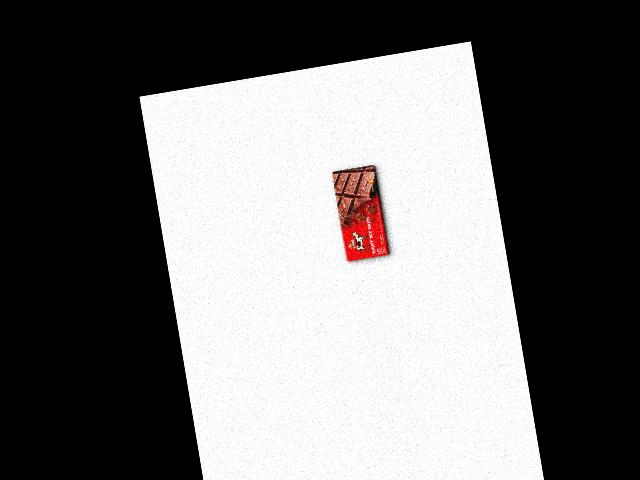chocolate: (329, 162, 393, 264)
